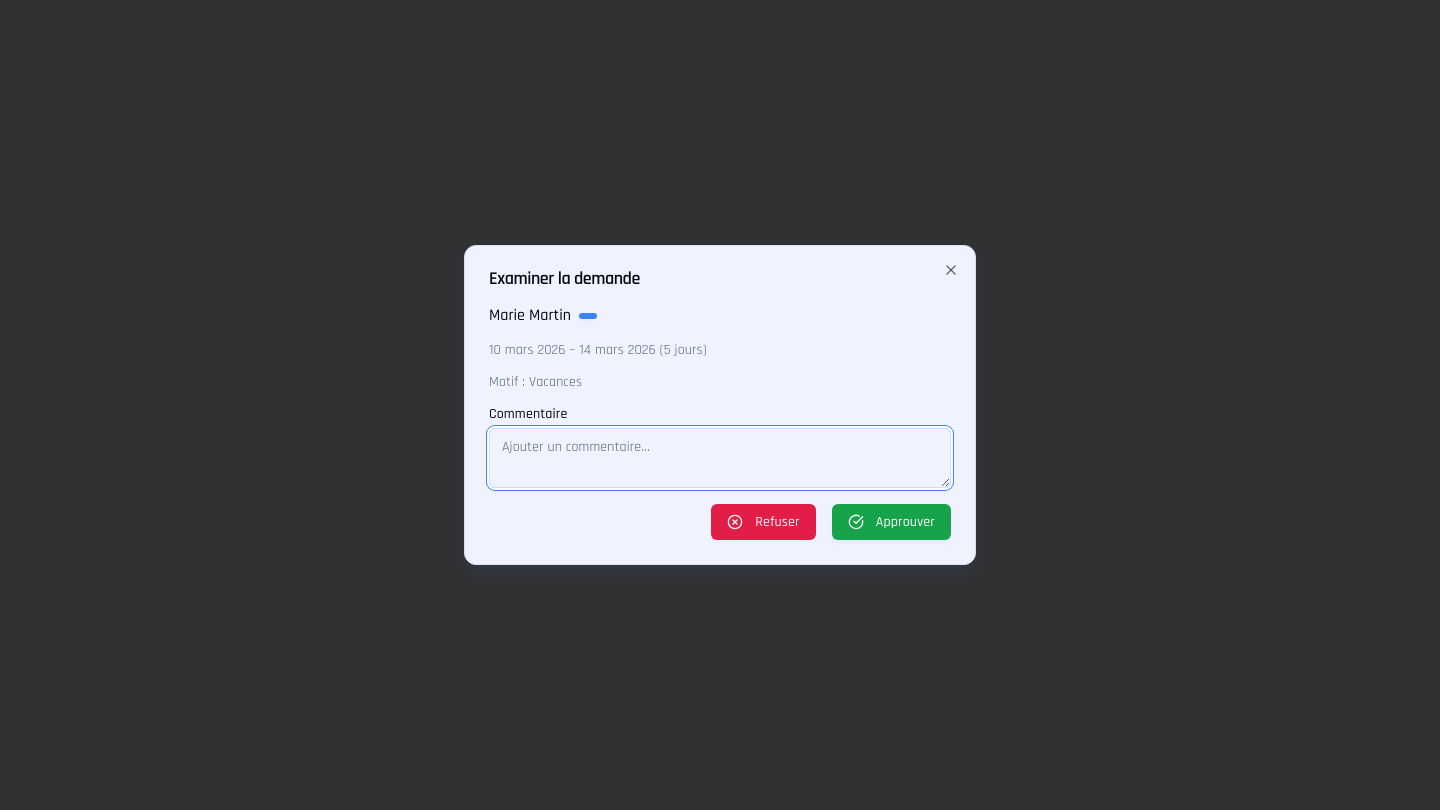
Test: LeaveReviewDialog › shows error when rejecting without comment
This screenshot has width=1440, height=810.
Click the button "Refuser": (764, 522) [711, 504, 816, 540]
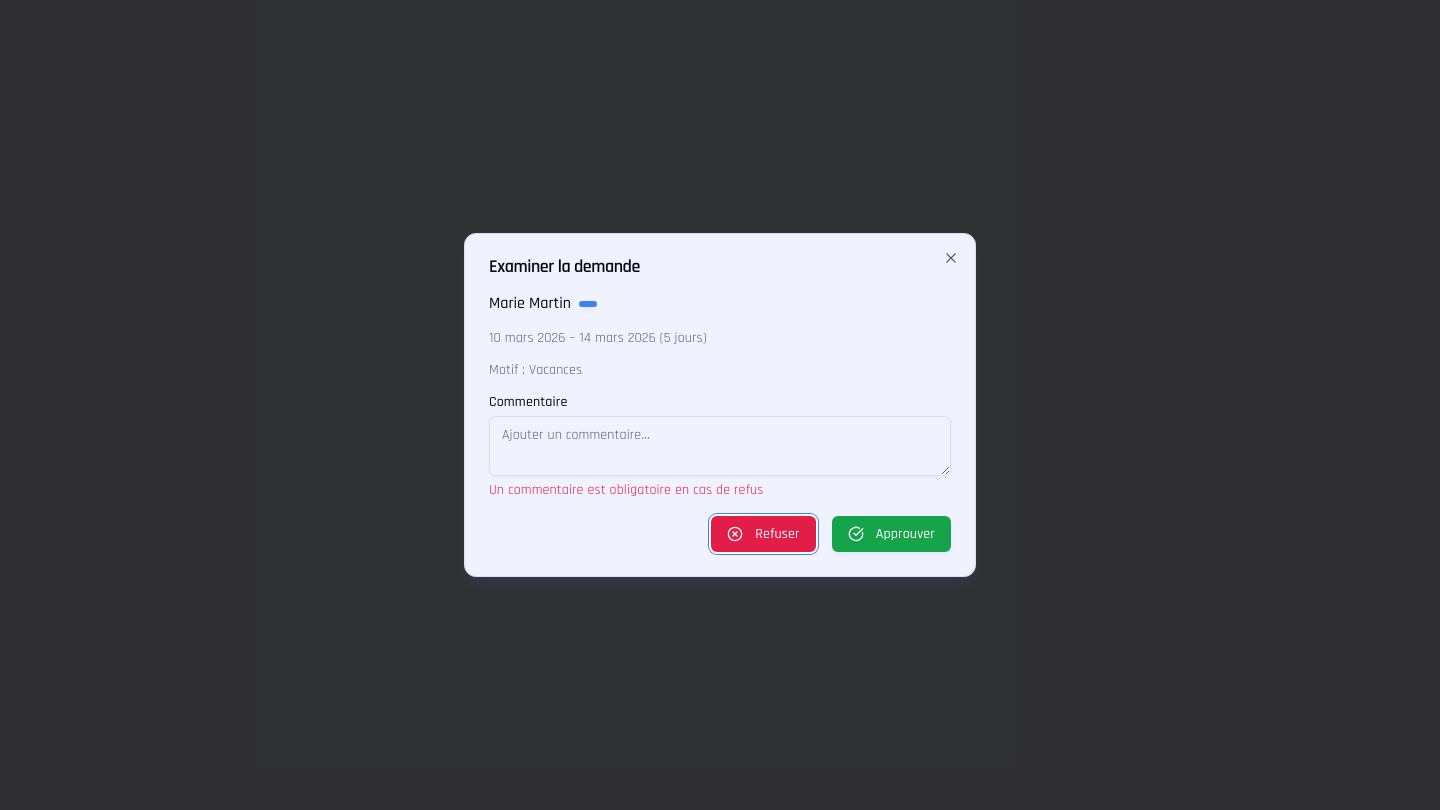
Now the text "Un commentaire est obligatoire en cas de refus" is shown, box [489, 481, 764, 499]
